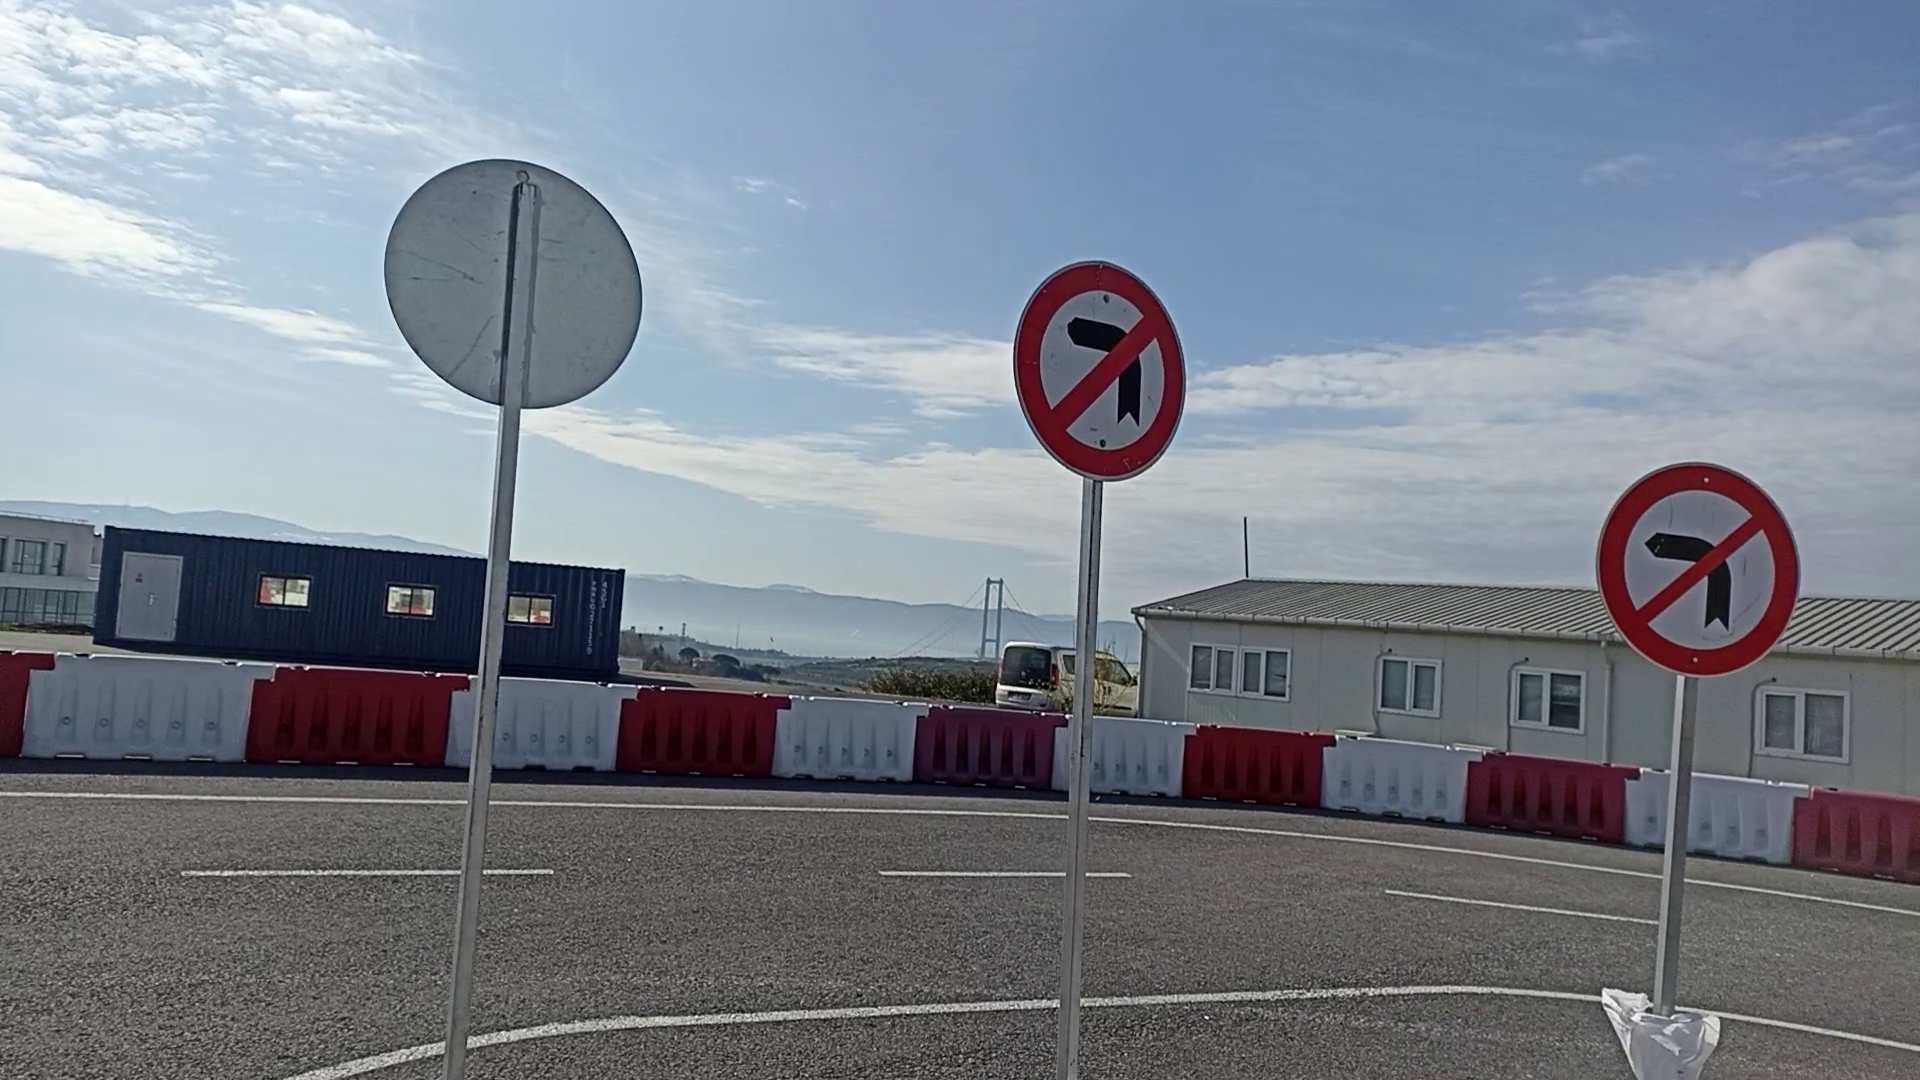noleft: (1593, 460, 1807, 682), (1011, 258, 1188, 483)
